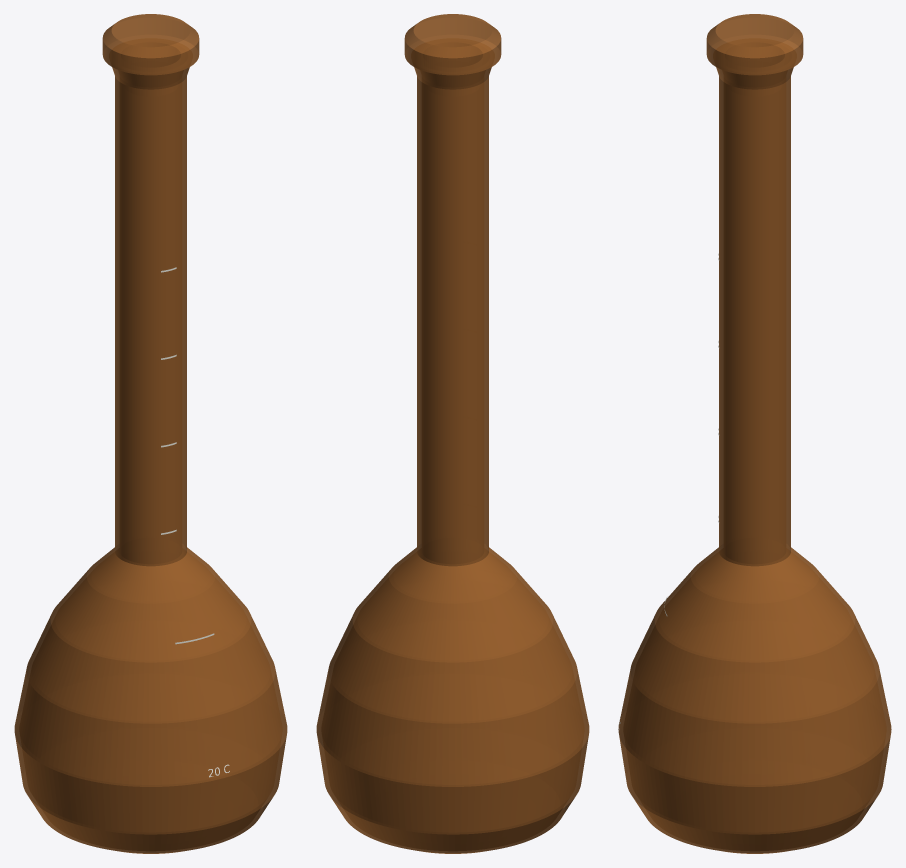
File: preview.glb
The picture shows the model from 3 angles, left to right: view 1: azimuth 30°, elevation 25°; view 2: azimuth 150°, elevation 25°; view 3: azimuth 270°, elevation 25°; orthographic projection.
Visible parts, largest first — view 1: Vessel_Vessel, Closure_Closure; view 2: Vessel_Vessel, Closure_Closure; view 3: Vessel_Vessel, Closure_Closure.
Part boxes in pixels (x1,y1,x2,y2): Vessel_Vessel: [14, 67, 287, 853]; Closure_Closure: [102, 14, 199, 75]; Vessel_Vessel: [316, 67, 589, 853]; Closure_Closure: [404, 14, 501, 75]; Vessel_Vessel: [618, 67, 891, 853]; Closure_Closure: [706, 14, 803, 75].
Size of the model in its own units: 0.068 by 0.216 by 0.068.
